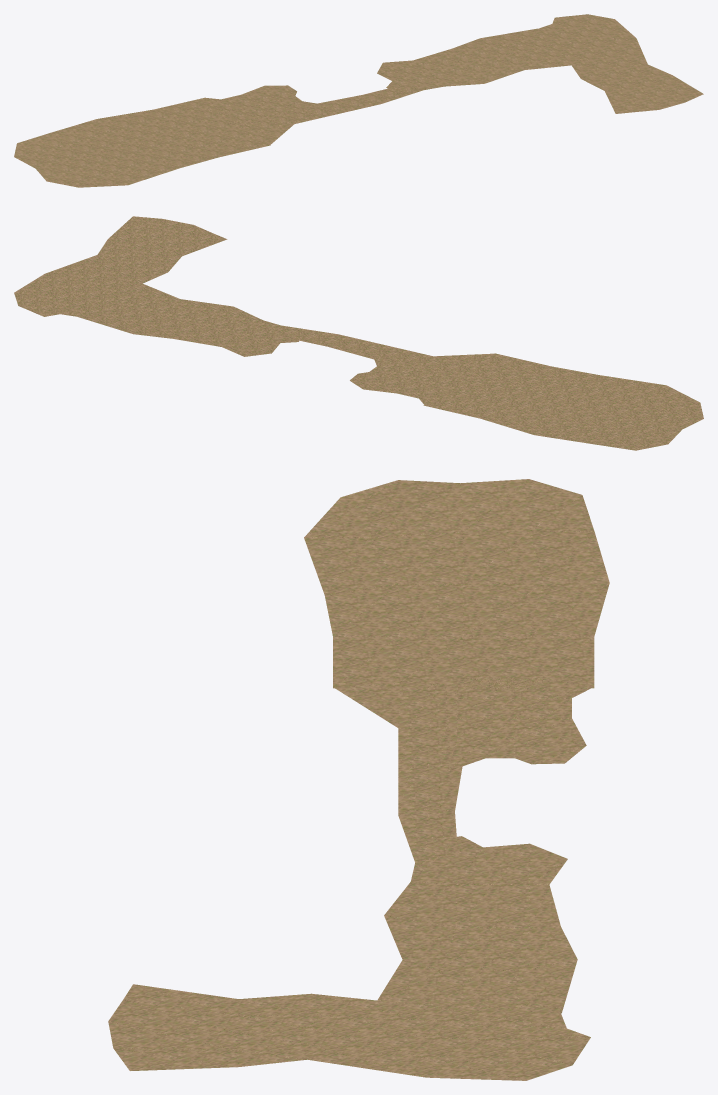
The model's file is camino.obj.
3 views of the same model, one above another, from view 1: azimuth 30°, elevation 25°; view 2: azimuth 150°, elevation 25°; view 3: azimuth 270°, elevation 25° (orthographic). The views are drawn at different scales.
Parts seen in each view (by area): view 1: Plano.001; view 2: Plano.001; view 3: Plano.001.
Part boxes in pixels (<box>): Plano.001: <box>14,14,703,187</box>; Plano.001: <box>14,216,703,450</box>; Plano.001: <box>108,479,609,1080</box>.
Size of the model in its own units: 731 by 9.37 by 264.
Materials: 1 (1 with a texture image).
